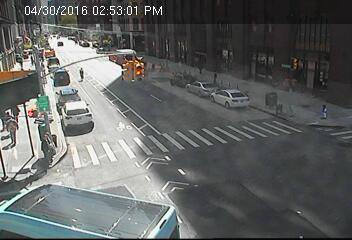neg: (177, 149, 214, 198), (88, 160, 119, 201), (32, 196, 56, 229), (130, 71, 152, 100), (170, 90, 191, 119), (276, 97, 296, 123), (150, 125, 170, 151), (218, 107, 237, 133), (72, 59, 88, 80)
pos: (32, 133, 57, 166), (3, 116, 26, 147), (319, 101, 333, 120), (210, 69, 222, 85), (195, 59, 207, 74), (156, 57, 166, 71)
